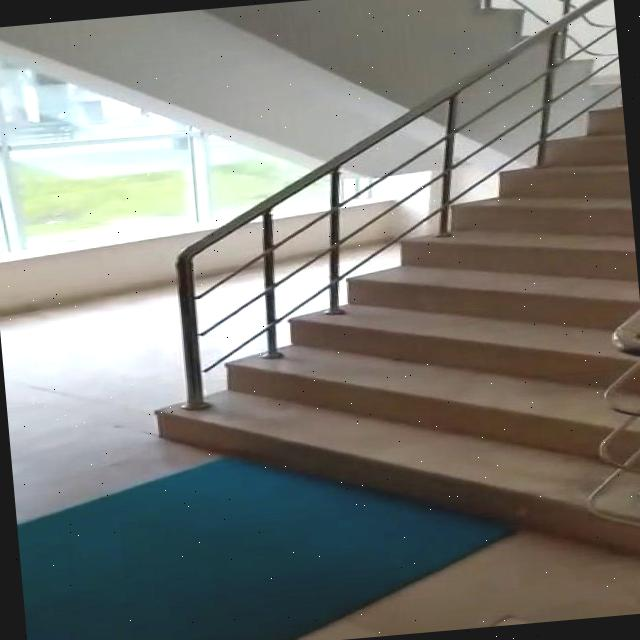stairs: (129, 98, 640, 593)
